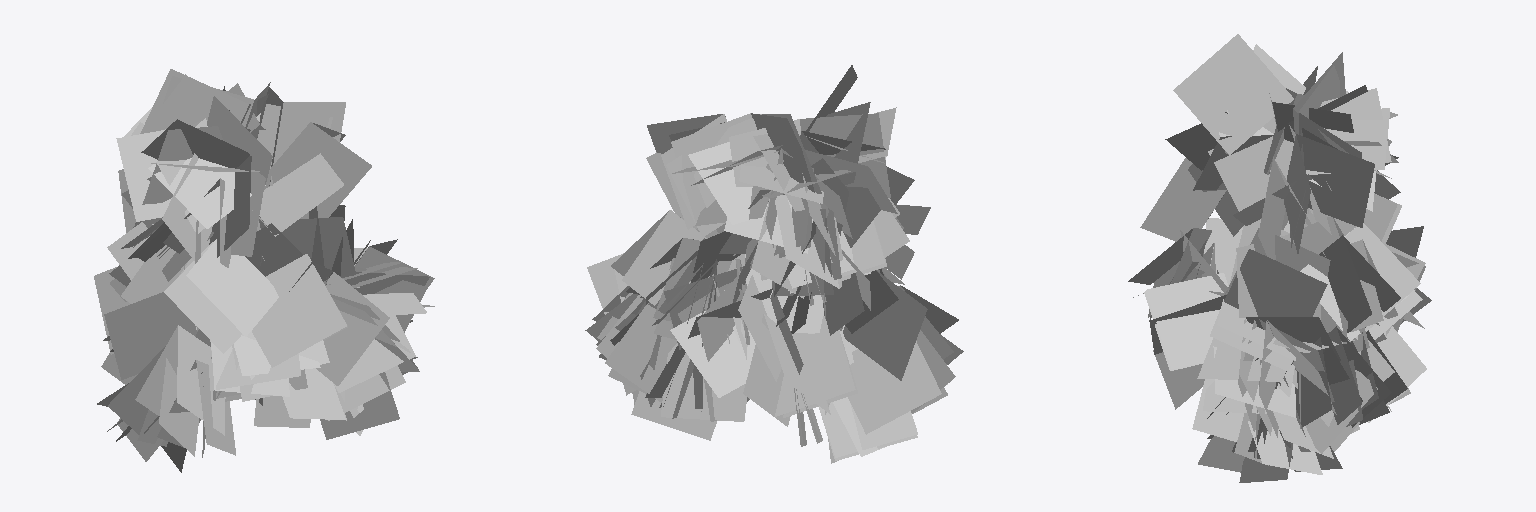
File: leaves.obj
3 views of the same model, side by side, from view 1: azimuth 30°, elevation 25°; view 2: azimuth 150°, elevation 25°; view 3: azimuth 270°, elevation 25° (orthographic).
Bounding box in the file's own units: 7.19 × 7.82 × 5.63.